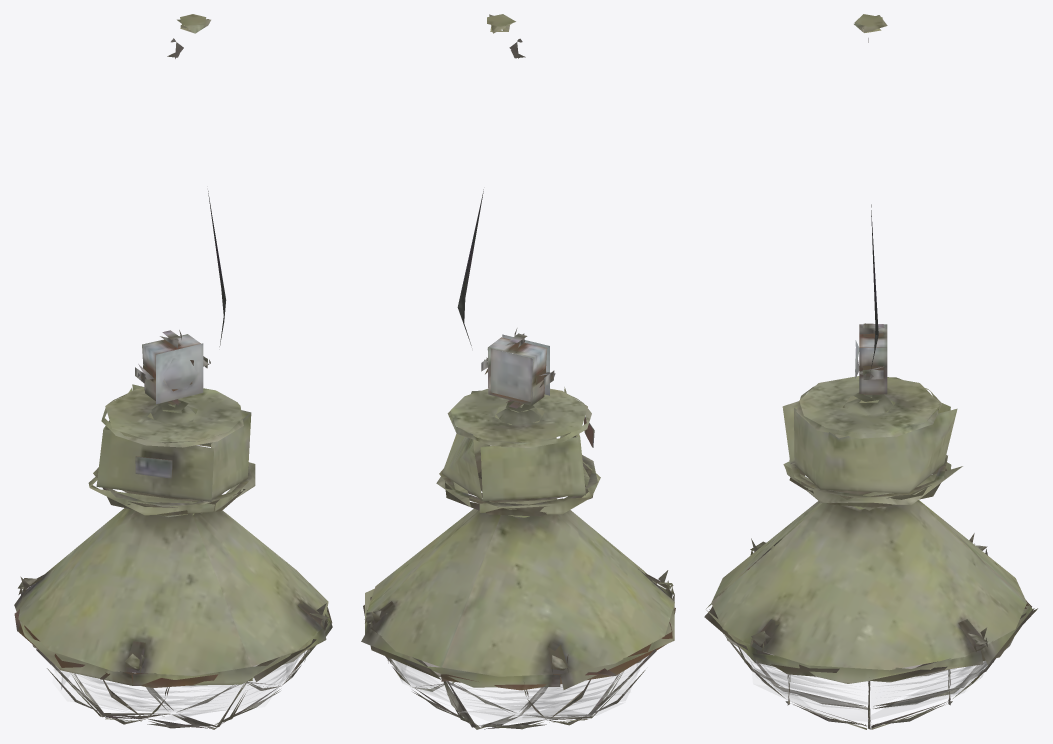
Rendered from hanging_industrial_lamp.glb.
3 renders of one model, left to right at view 1: azimuth 30°, elevation 25°; view 2: azimuth 150°, elevation 25°; view 3: azimuth 270°, elevation 25°, orthographic.
Parts seen in each view (by area): view 1: hanging_industrial_lamp; view 2: hanging_industrial_lamp; view 3: hanging_industrial_lamp.
Boxes of the visible parts, box(x1,y1,x2,y2) form: hanging_industrial_lamp: box(14, 14, 332, 729); hanging_industrial_lamp: box(361, 14, 675, 729); hanging_industrial_lamp: box(704, 14, 1037, 729).
Size of the model in its own units: 0.5631 by 1.35 by 0.5824.
Materials: 2 (1 with a texture image).
